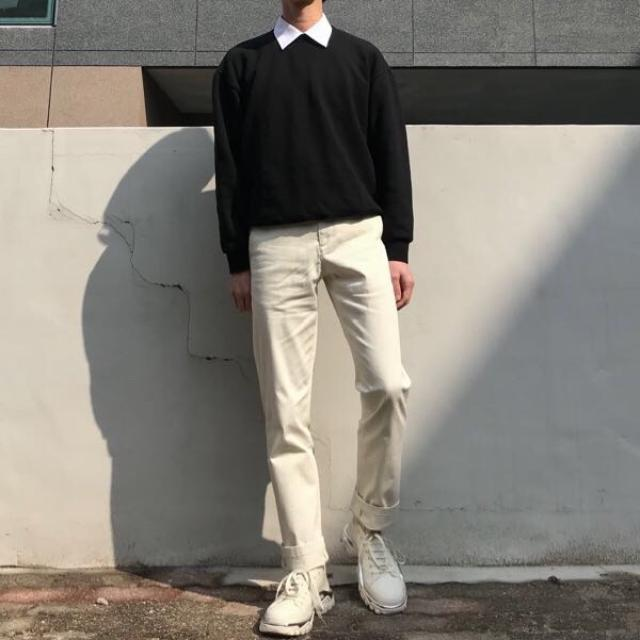cottonpants: (247, 220, 408, 570)
mtm: (210, 15, 410, 271)
